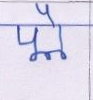ai_matra: (35, 3, 58, 24)
